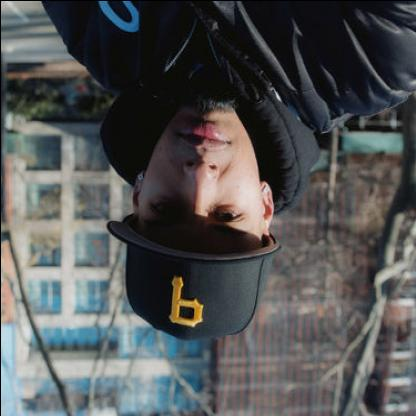cap: (97, 216, 288, 342)
